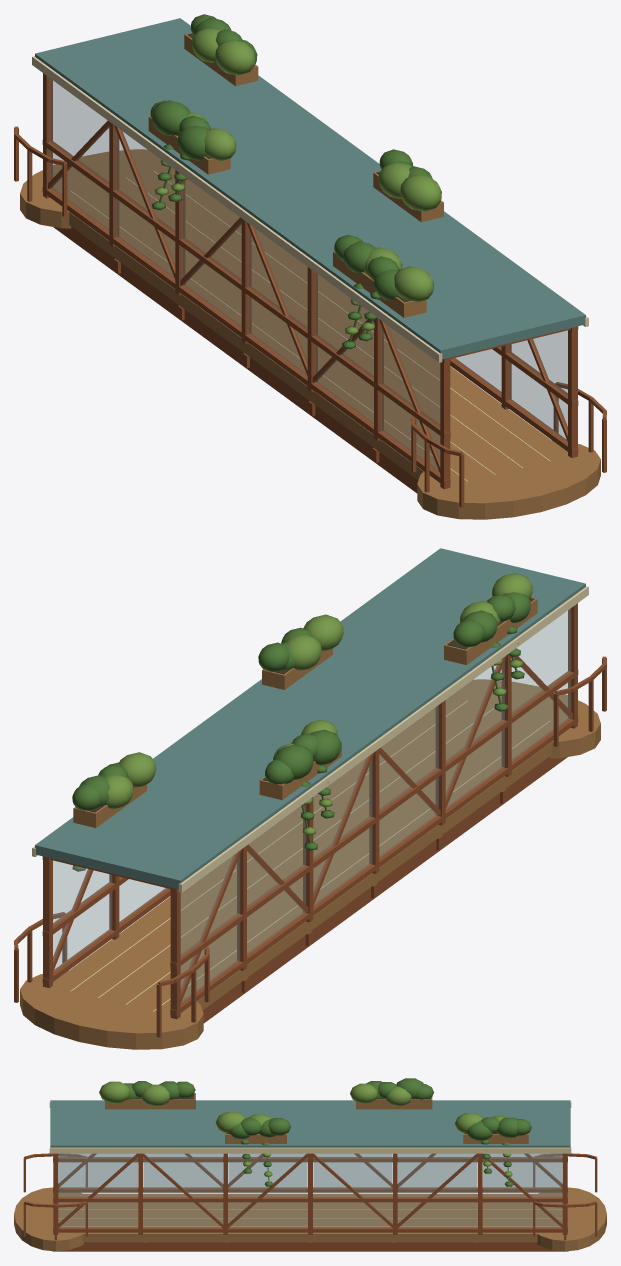
Rendered from skybridge.glb.
The picture shows the model from 3 angles, top to bottom: view 1: azimuth 30°, elevation 25°; view 2: azimuth 150°, elevation 25°; view 3: azimuth 270°, elevation 25°; orthographic projection. The views are drawn at different scales.
Visible parts, largest first — view 1: skybridge; view 2: skybridge; view 3: skybridge.
Boxes of the visible parts, bbox=[...] form: skybridge: bbox=[14, 14, 606, 519]; skybridge: bbox=[14, 548, 606, 1049]; skybridge: bbox=[14, 1078, 606, 1251].
Bounding box in the file's own units: 3.5 × 4.09 × 16.3.
